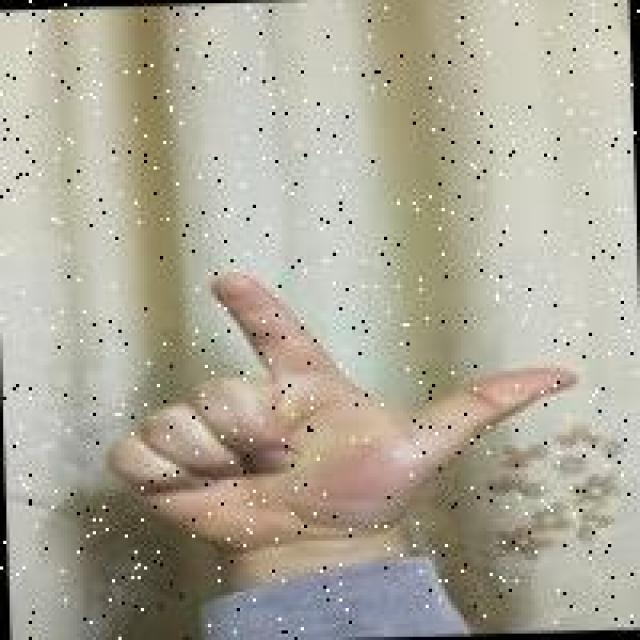L: (88, 258, 590, 562)
